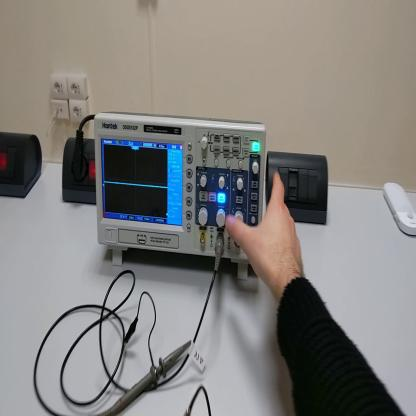hand: (226, 168, 303, 289)
oscilloscope: (94, 112, 268, 282)
oscilloscope probe tip: (98, 343, 192, 416)
socket: (1, 132, 44, 200), (61, 136, 97, 209)
